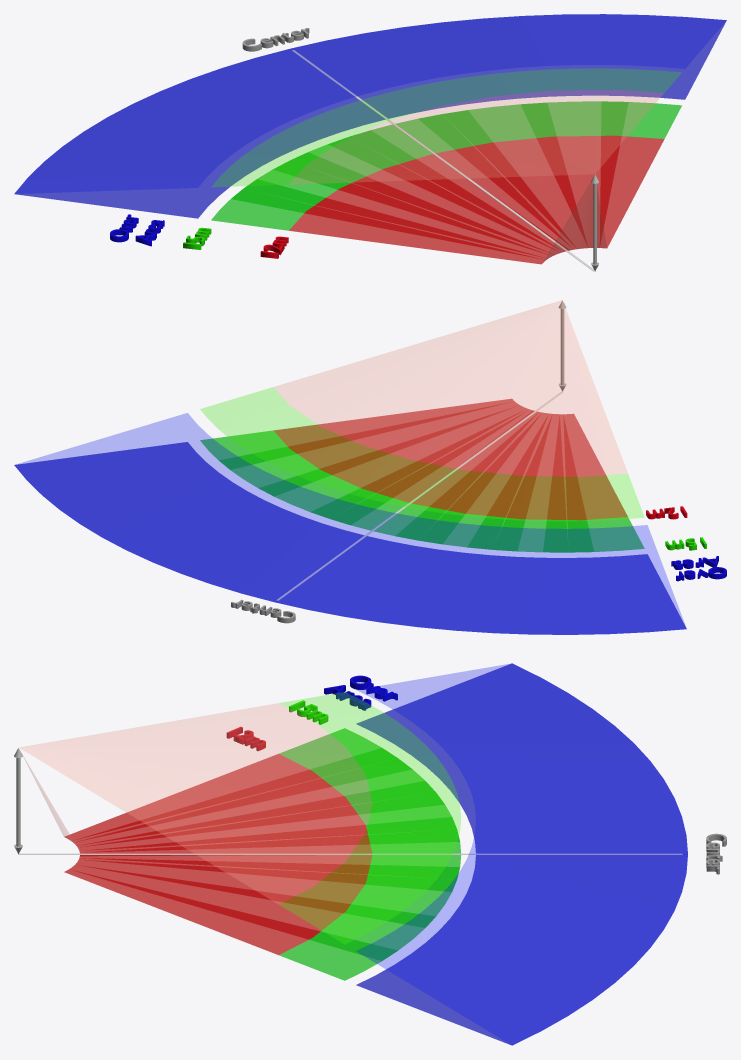
Rendered from area_13.glb.
3 renders of one model, top to bottom at view 1: azimuth 30°, elevation 25°; view 2: azimuth 150°, elevation 25°; view 3: azimuth 270°, elevation 25°, orthographic. The views are drawn at different scales.
Parts seen in each view (by area): view 1: defaultobject.001, defaultobject.003, defaultobject.002, 立方体, テキスト.002, テキスト.003; view 2: defaultobject.001, defaultobject.003, defaultobject.002, テキスト.002, 立方体, テキスト.003; view 3: defaultobject.001, defaultobject.003, defaultobject.002, 立方体, テキスト.002, テキスト.003.
Boxes of the visible parts, left/top/right/bottom form: defaultobject.001: left=14, top=14, right=726, bottom=218; defaultobject.003: left=289, top=90, right=664, bottom=264; defaultobject.002: left=211, top=68, right=681, bottom=230; 立方体: left=292, top=50, right=595, bottom=271; テキスト.002: left=110, top=214, right=164, bottom=246; テキスト.003: left=242, top=28, right=309, bottom=51; defaultobject.001: left=14, top=413, right=686, bottom=634; defaultobject.003: left=273, top=300, right=627, bottom=520; defaultobject.002: left=200, top=387, right=644, bottom=552; テキスト.002: left=671, top=556, right=726, bottom=581; 立方体: left=276, top=391, right=563, bottom=600; テキスト.003: left=231, top=599, right=295, bottom=623; defaultobject.001: left=356, top=663, right=687, bottom=1045; defaultobject.003: left=19, top=703, right=372, bottom=955; defaultobject.002: left=279, top=692, right=461, bottom=980; 立方体: left=18, top=853, right=682, bottom=854; テキスト.002: left=324, top=675, right=397, bottom=710; テキスト.003: left=706, top=833, right=726, bottom=874.
Bounding box in the file's own units: 30.65 × 4.1 × 24.16.
